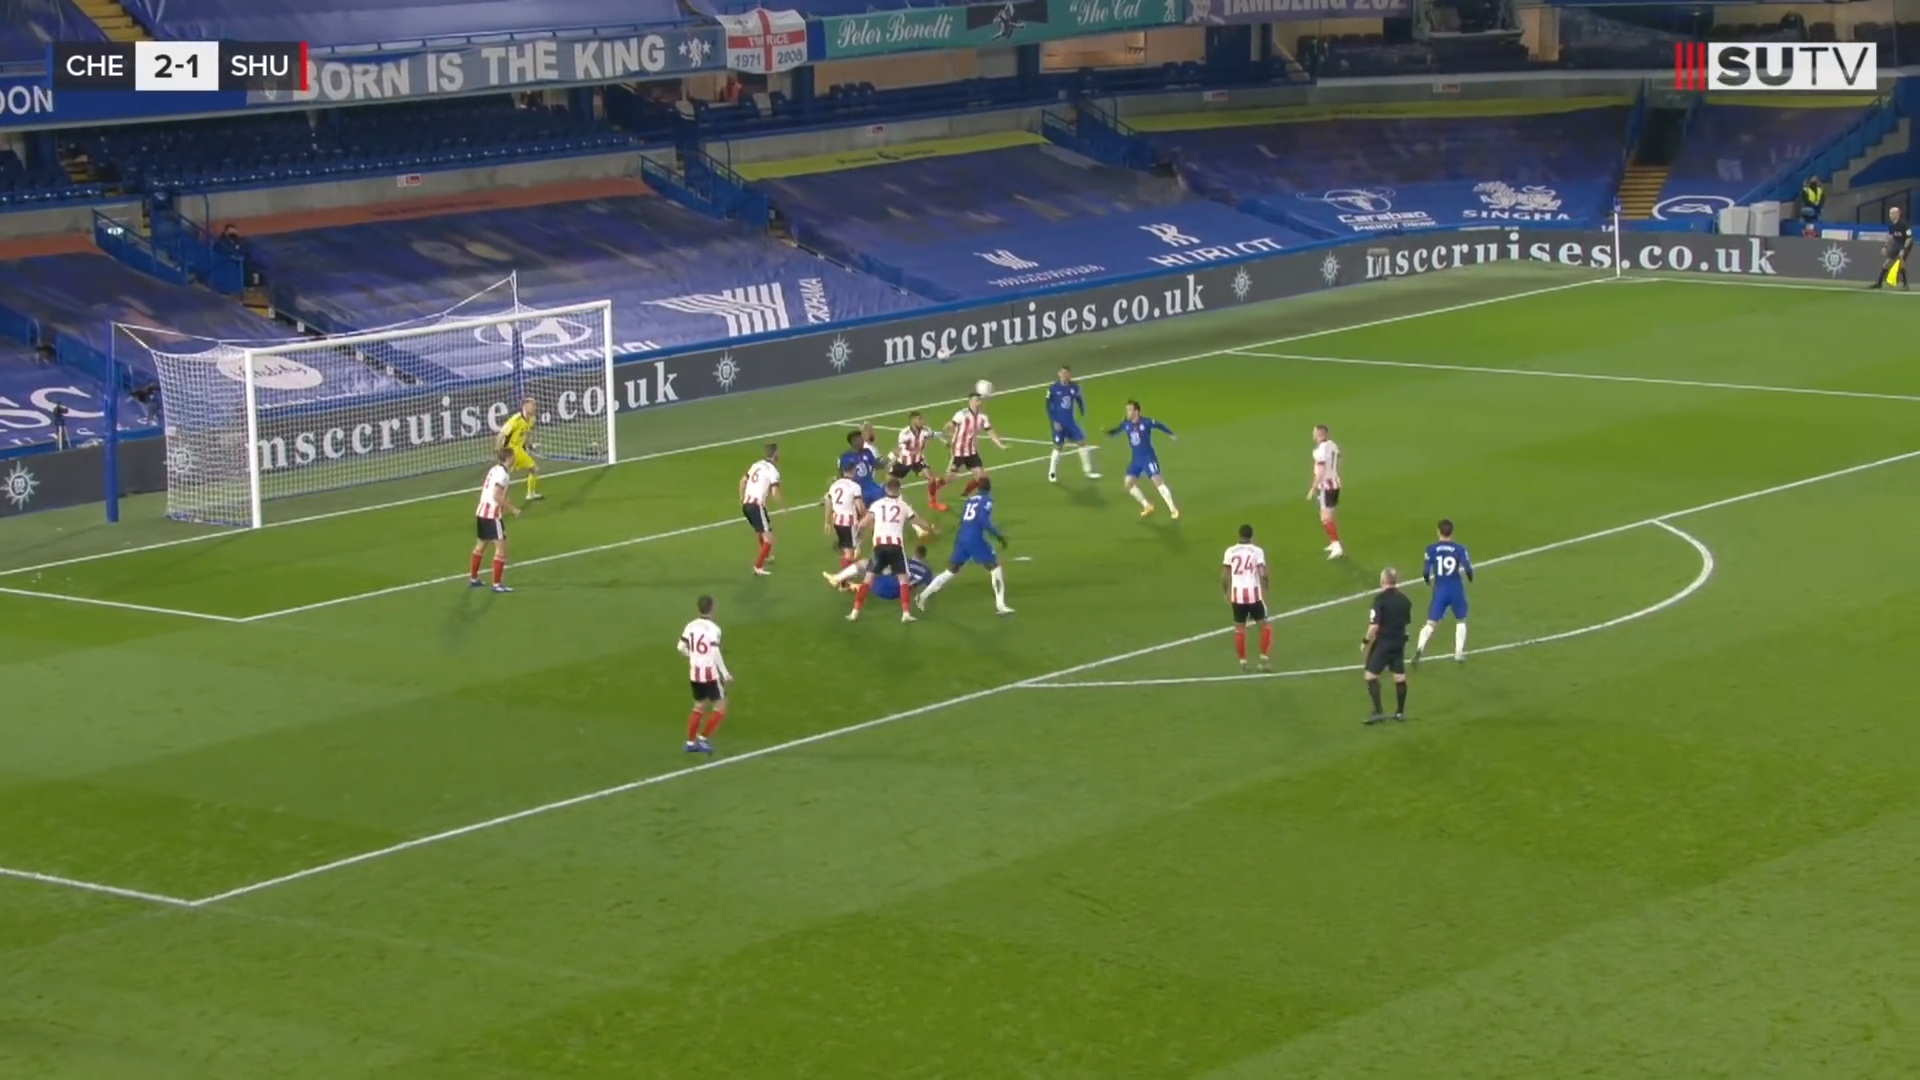Player: (654, 577, 738, 766), (1204, 514, 1291, 665), (1105, 388, 1195, 532), (1407, 509, 1487, 666), (852, 484, 920, 625), (1297, 406, 1355, 560)
